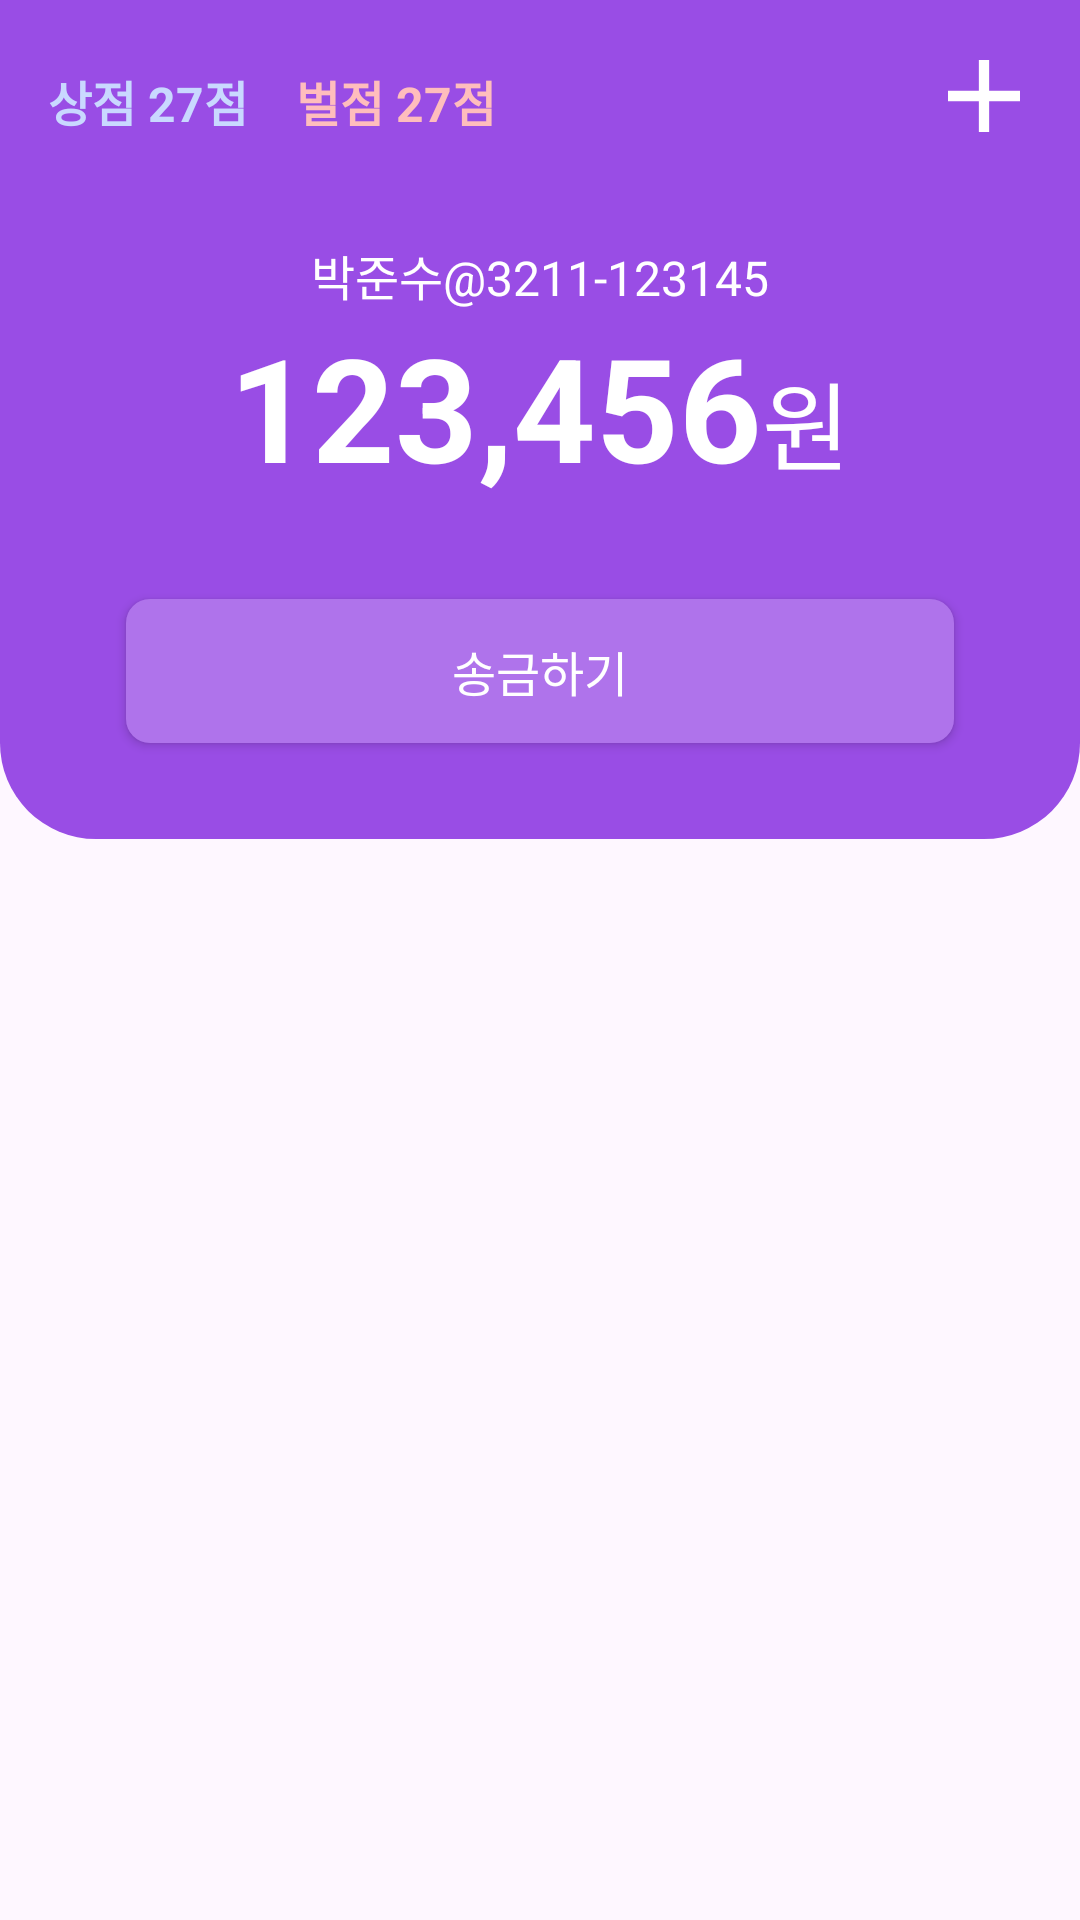

Where icons sit on this 1080×1920 app screen, as (x1, y1, x2, y2):
add: (948, 60, 1020, 132)
